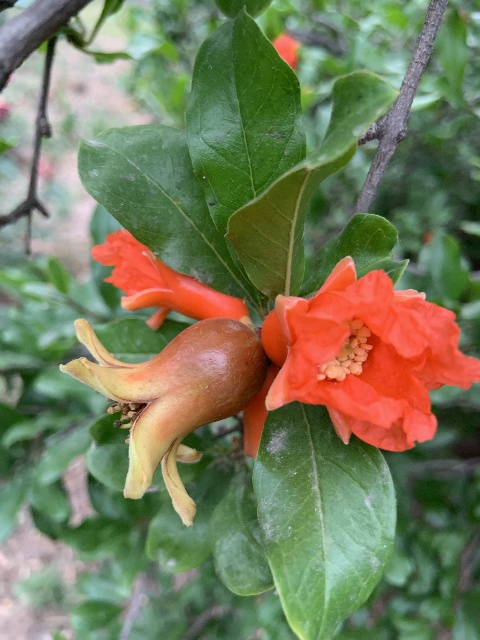early-fruit: (58, 316, 270, 526)
flower: (260, 257, 480, 451), (93, 226, 251, 330)
